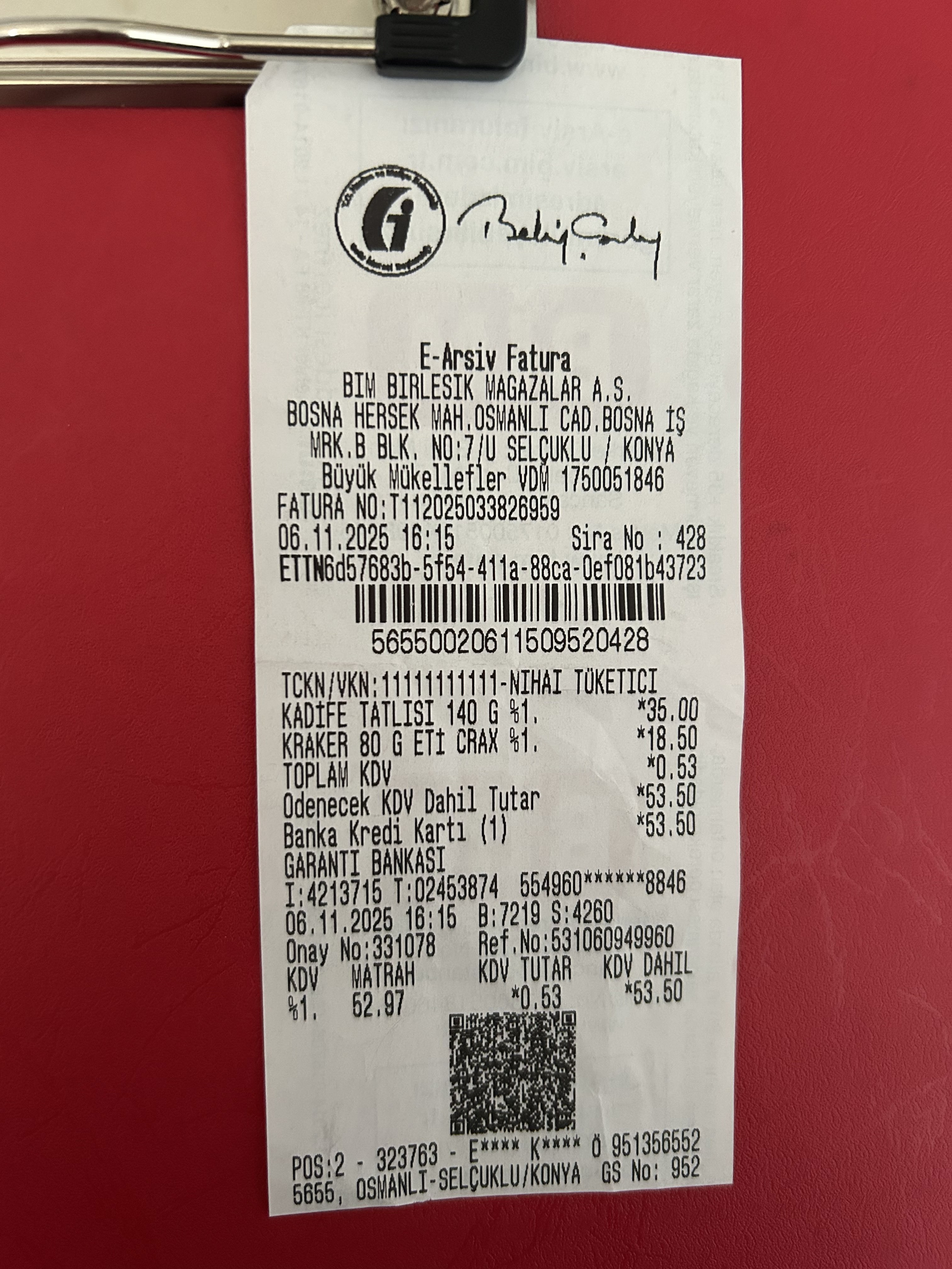date: (643, 781, 702, 810)
price: (270, 520, 396, 554)
workplace: (267, 369, 709, 465)
